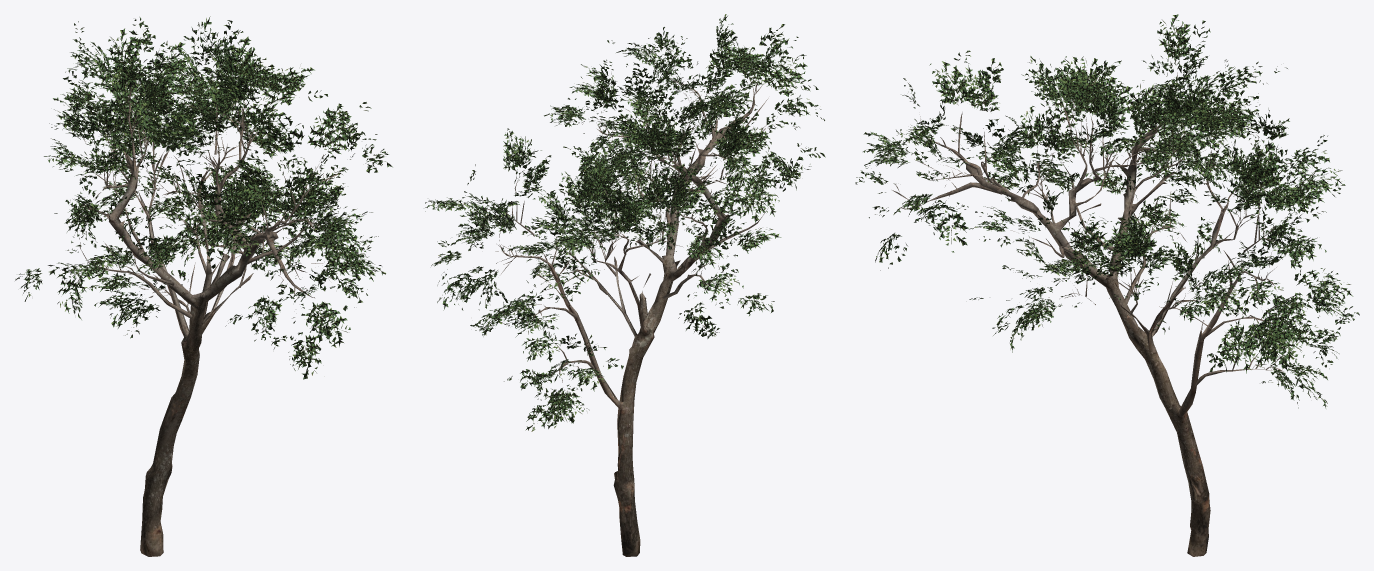
Rendered from youngtree.glb.
3 renders of one model, left to right at view 1: azimuth 30°, elevation 25°; view 2: azimuth 150°, elevation 25°; view 3: azimuth 270°, elevation 25°, orthographic. The views are drawn at different scales.
Visible parts, largest first — view 1: tree_small_02_LOD0; view 2: tree_small_02_LOD0; view 3: tree_small_02_LOD0.
Part boxes in pixels (x1,y1,x2,y2): tree_small_02_LOD0: (15, 16, 392, 556); tree_small_02_LOD0: (425, 14, 825, 556); tree_small_02_LOD0: (855, 14, 1359, 556).
Bounding box in the file's own units: 2.88 × 4.55 × 4.17.
3 materials, 3 textured.
